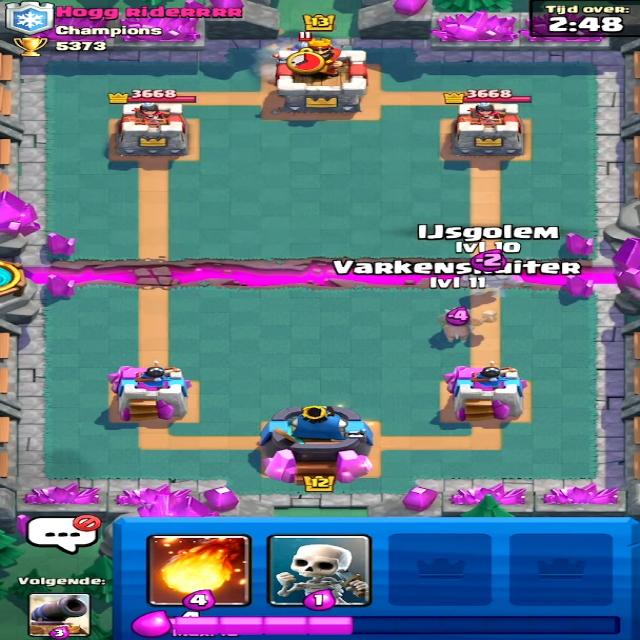Fireball_Card: (152, 532, 252, 604)
Skeleton_Card: (270, 536, 352, 604)
